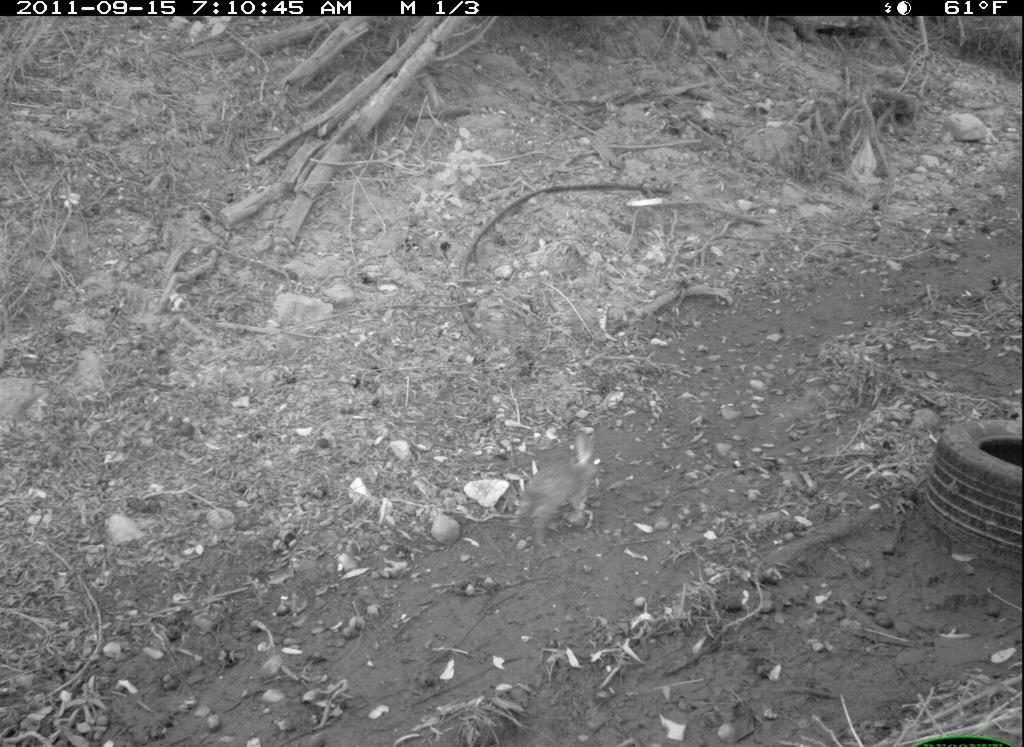rabbit: (511, 424, 614, 547)
